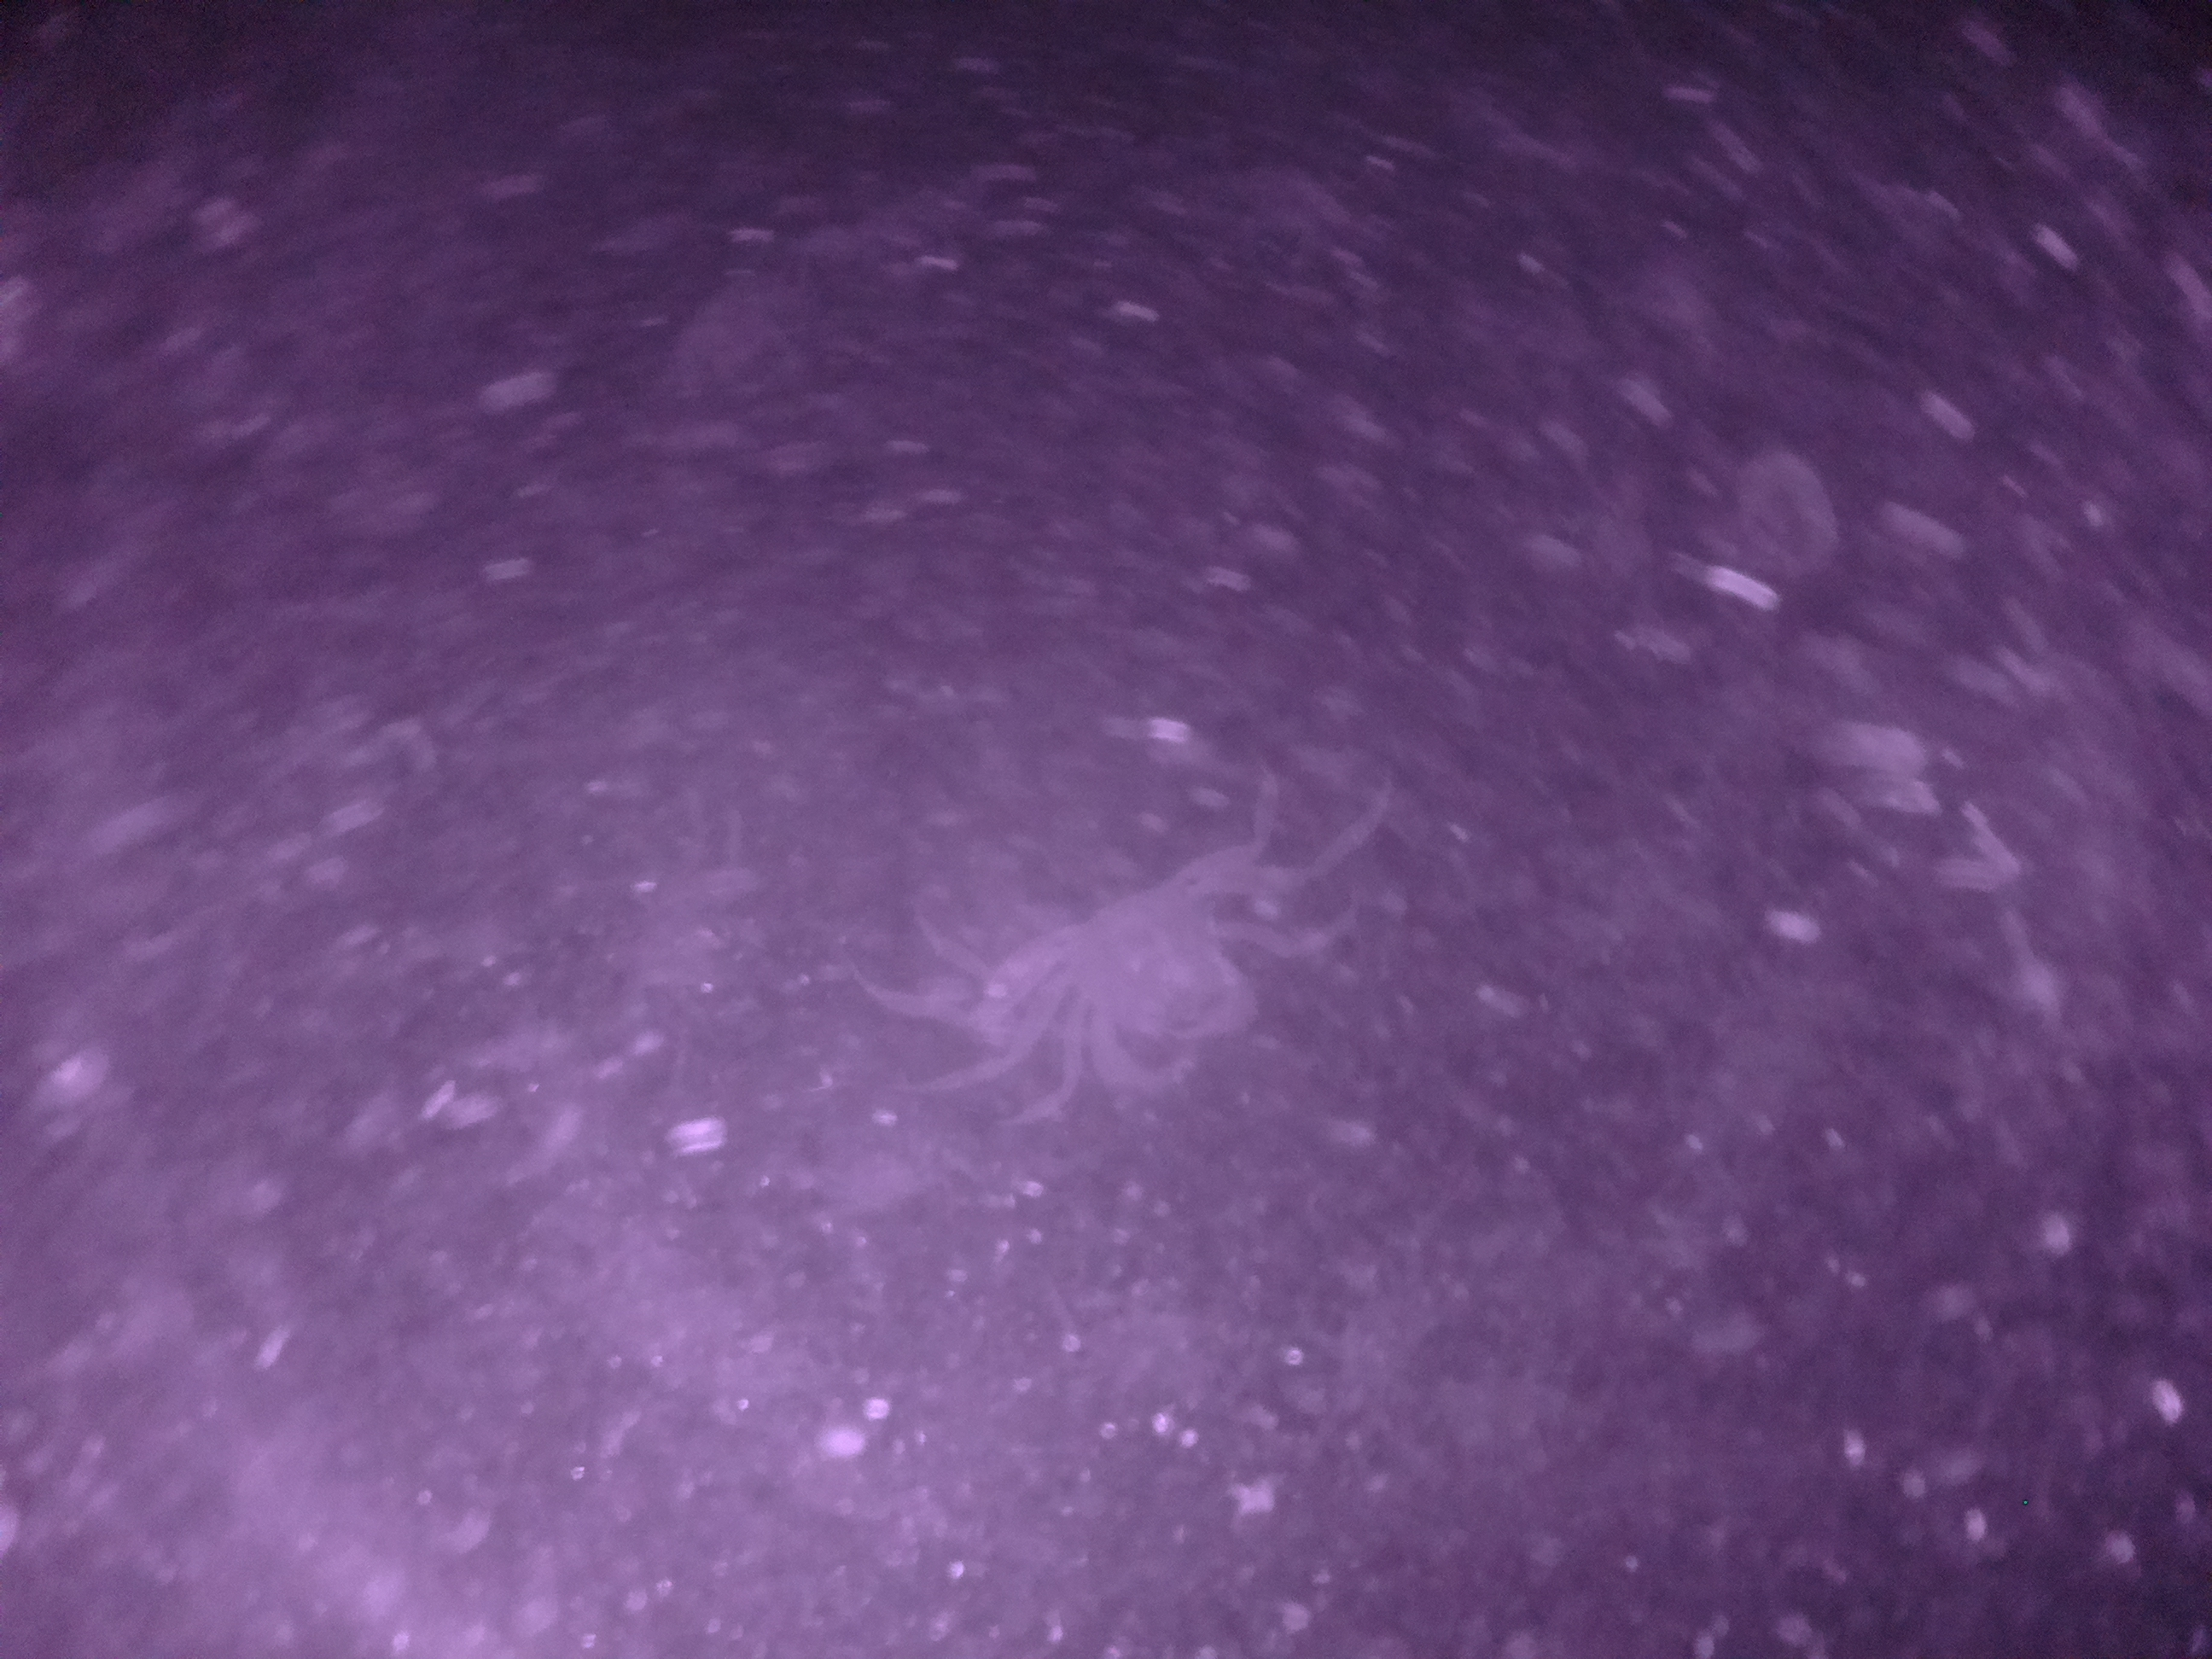Crab: (989, 843, 1301, 1105)
